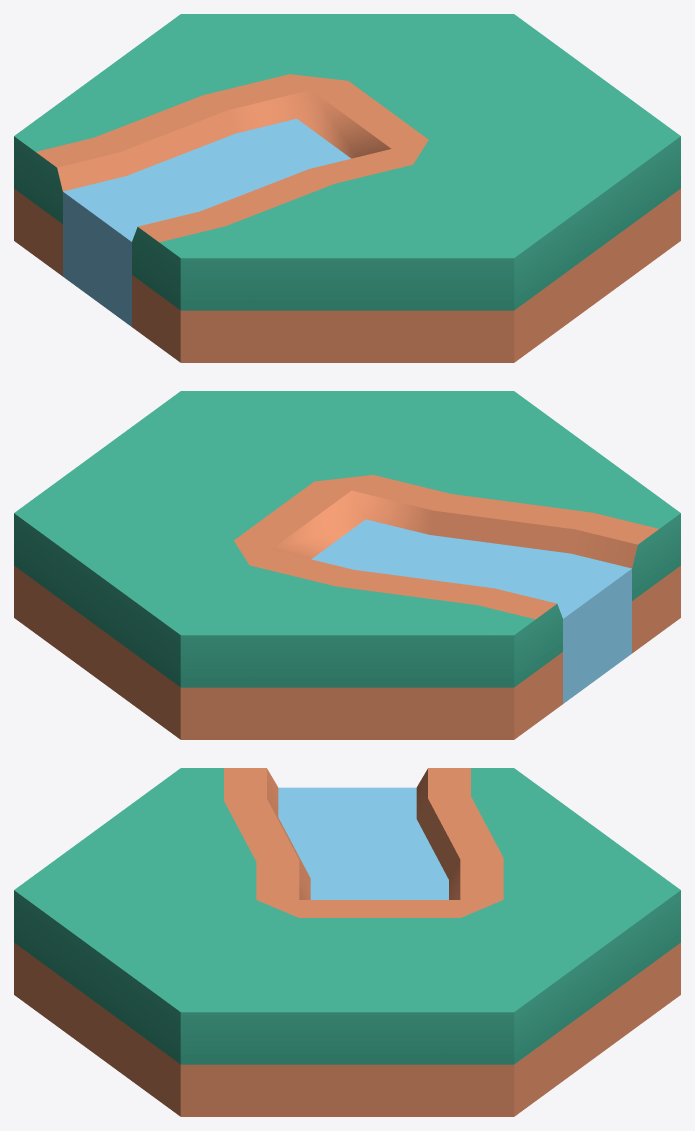
Rendered from river-end.fbx.
3 renders of one model, top to bottom at view 1: azimuth 30°, elevation 25°; view 2: azimuth 150°, elevation 25°; view 3: azimuth 270°, elevation 25°, orthographic.
Parts seen in each view (by area): view 1: river_end; view 2: river_end; view 3: river_end.
Part boxes in pixels (left/top/right/bottom): river_end: left=14, top=14, right=680, bottom=362; river_end: left=14, top=391, right=680, bottom=739; river_end: left=14, top=768, right=680, bottom=1116.
Size of the model in its own units: 100 by 20 by 115.
1 material, 1 textured.
